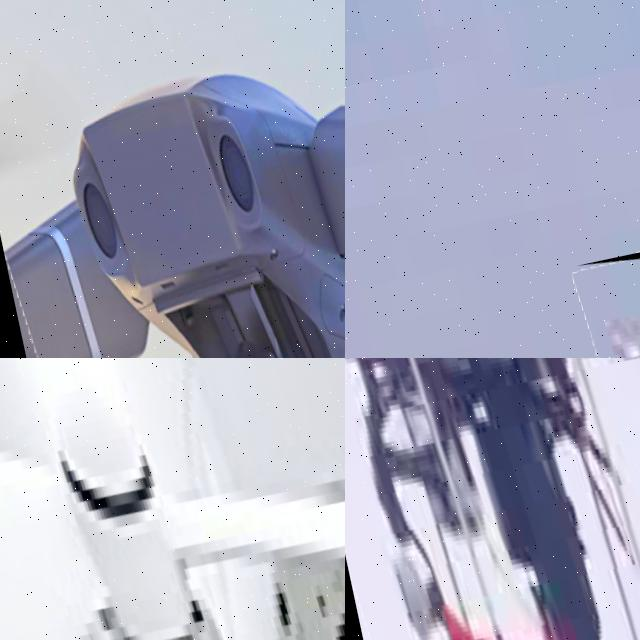0: (345, 358, 640, 640), (576, 248, 640, 358)
drone: (0, 0, 345, 358), (0, 358, 345, 640)
